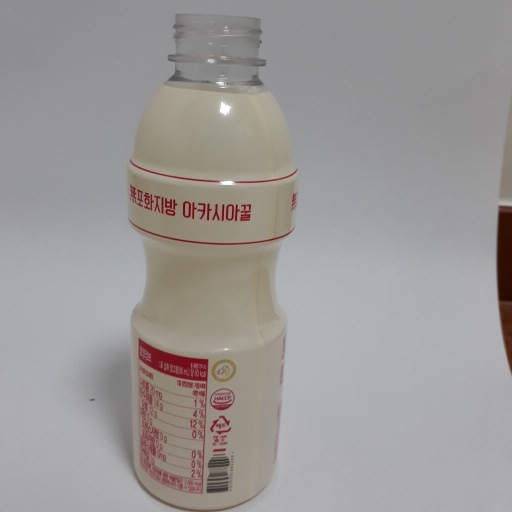Plastic_0: (124, 9, 300, 512)
